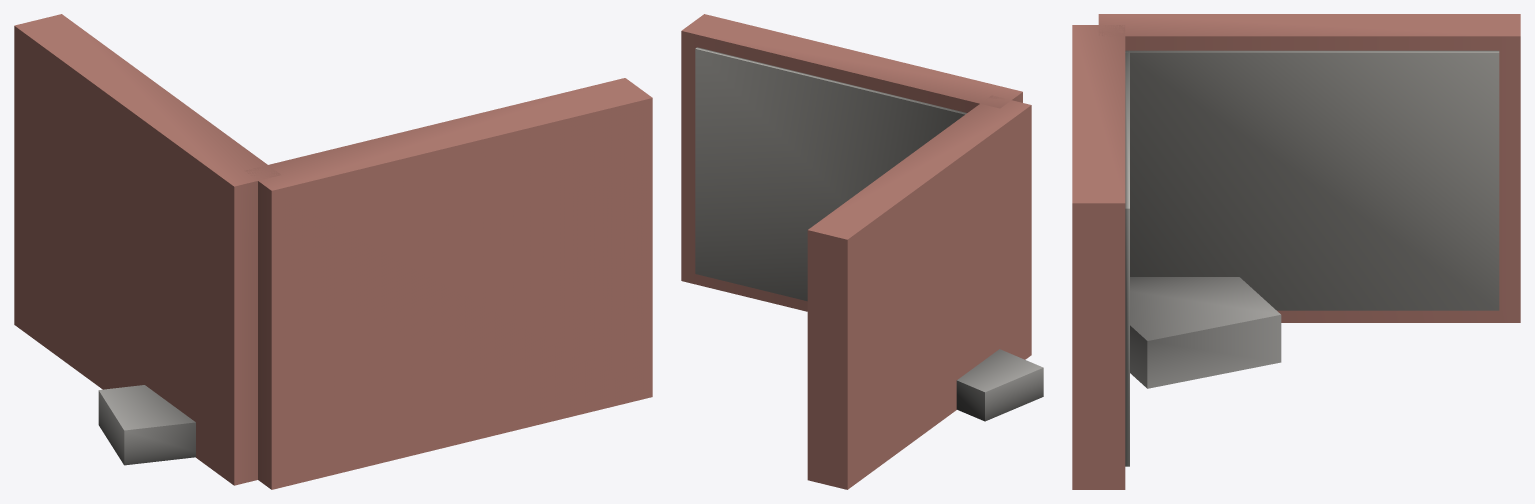
Rendered from Ruin_Wall_Corner.fbx.
The picture shows the model from 3 angles, left to right: view 1: azimuth 30°, elevation 25°; view 2: azimuth 150°, elevation 25°; view 3: azimuth 270°, elevation 25°; orthographic projection. The views are drawn at different scales.
Parts seen in each view (by area): view 1: Ruin_Wall_Corner; view 2: Ruin_Wall_Corner; view 3: Ruin_Wall_Corner.
Boxes of the visible parts, box(x1,y1,x2,y2) form: Ruin_Wall_Corner: box(14, 14, 652, 489); Ruin_Wall_Corner: box(681, 14, 1043, 489); Ruin_Wall_Corner: box(1072, 14, 1520, 489).
Size of the model in its own units: 4.9 by 3 by 4.25.
